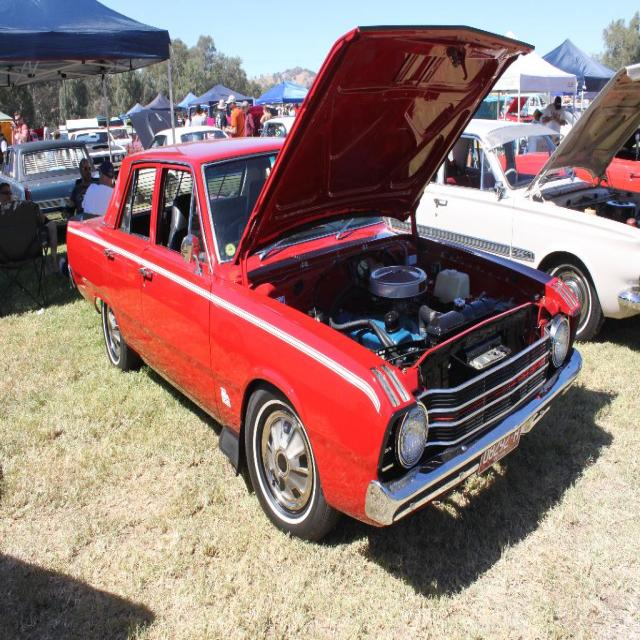car: (68, 22, 583, 546)
